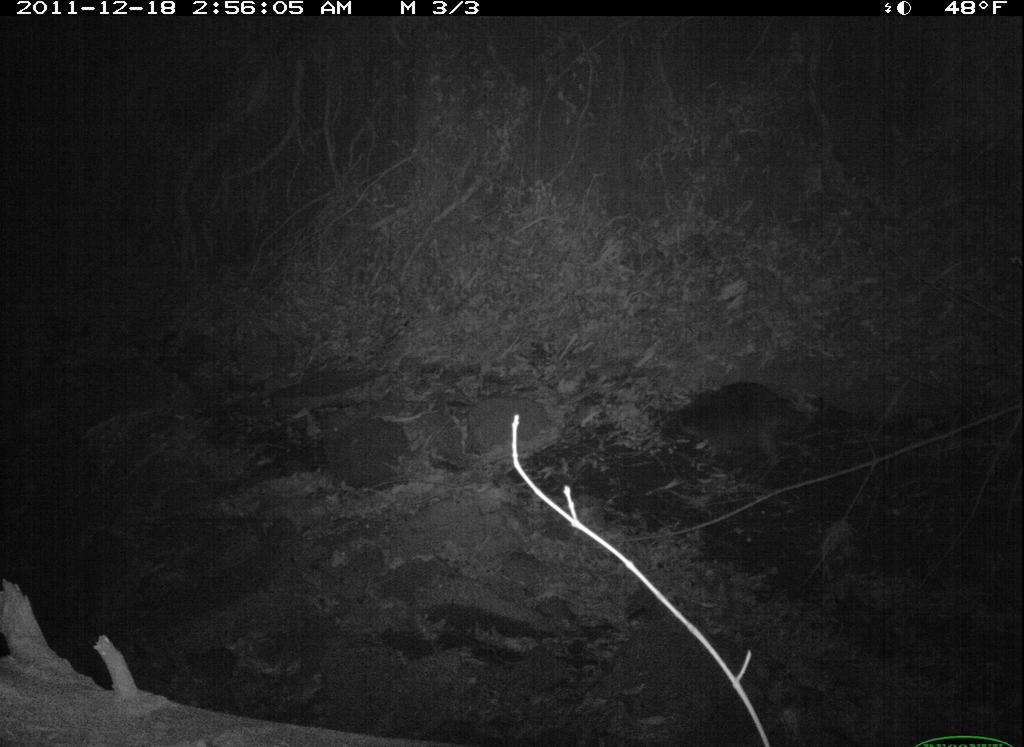raccoon: (665, 369, 824, 475)
